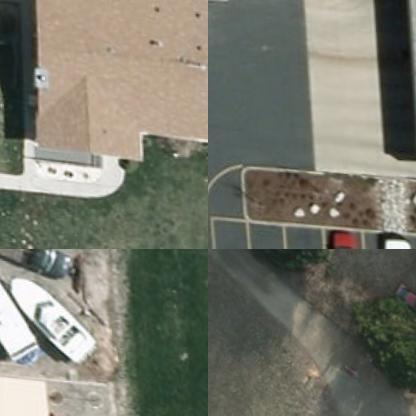car: (382, 267, 415, 322), (321, 225, 356, 248), (374, 230, 415, 248)
pickup: (0, 249, 71, 282)
